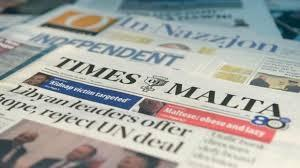Printing industry: (1, 2, 300, 168)
